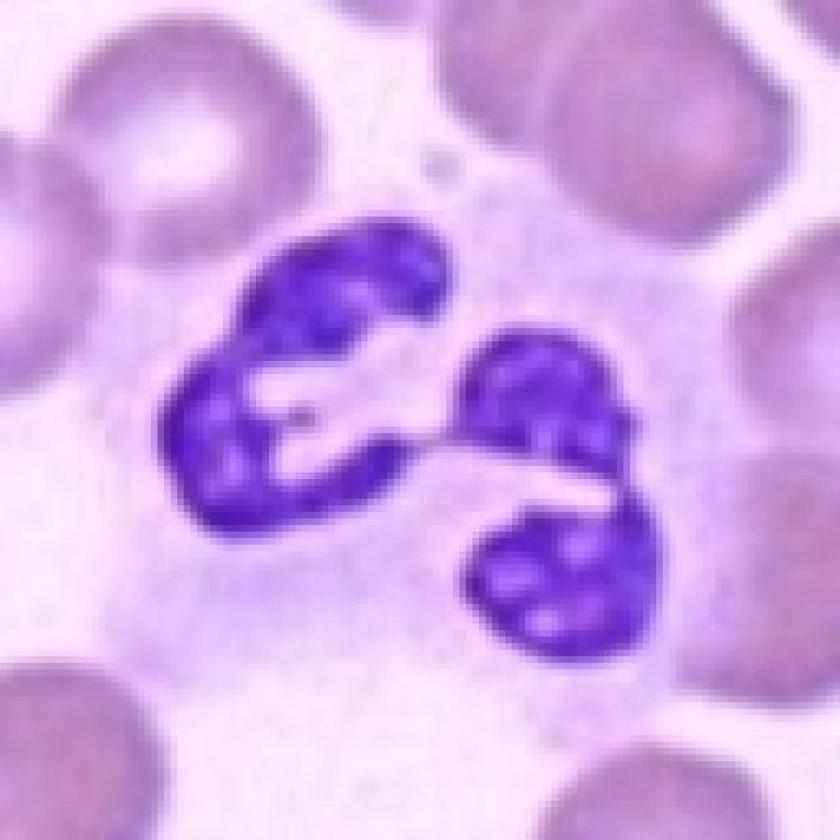neutrophil: (131, 154, 694, 679)
